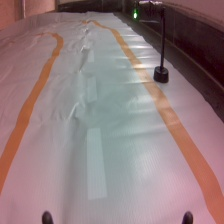green: (131, 1, 170, 85)
